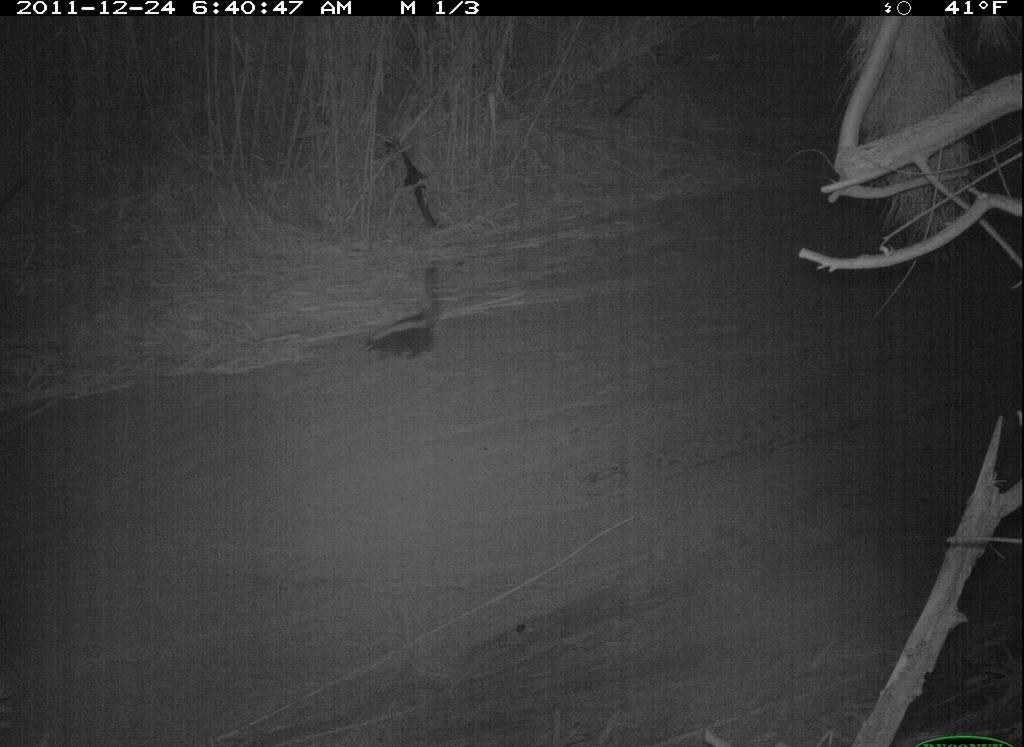skunk: (359, 264, 455, 369)
